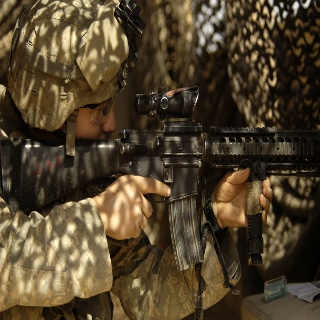rifle: (20, 85, 320, 273)
